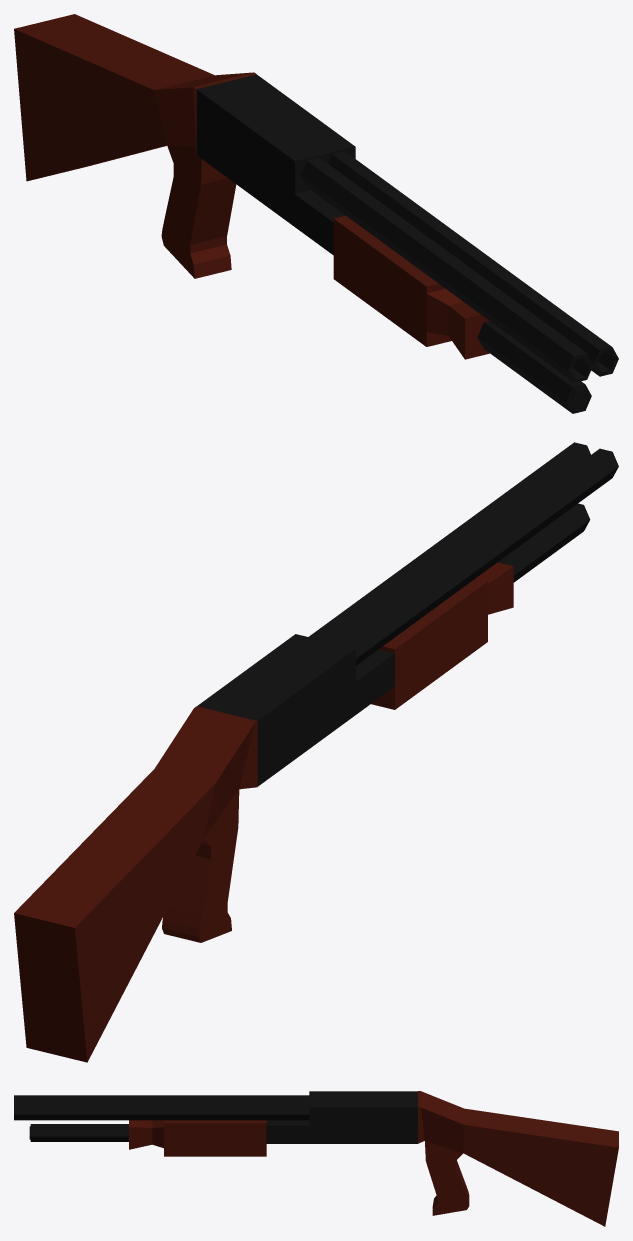
Rendered from Shotgun_Matriz.fbx.
The picture shows the model from 3 angles, top to bottom: view 1: azimuth 30°, elevation 25°; view 2: azimuth 150°, elevation 25°; view 3: azimuth 270°, elevation 25°; orthographic projection. The views are drawn at different scales.
Parts seen in each view (by area): view 1: parte tras, meio, cano 1, puxeta, cano 2, cano baixo; view 2: parte tras, meio, cano 1, puxeta, cano 2, cano baixo; view 3: parte tras, meio, cano 2, puxeta, cano 1, cano baixo.
Part boxes in pixels (<box>): parte tras: <box>14,14,256,278</box>; meio: <box>196,74,355,255</box>; cano 1: <box>300,157,593,382</box>; puxeta: <box>333,215,489,359</box>; cano 2: <box>328,151,618,376</box>; cano baixo: <box>477,321,591,413</box>; parte tras: <box>14,706,257,1062</box>; meio: <box>197,634,394,786</box>; cano 1: <box>334,448,618,665</box>; puxeta: <box>371,562,513,709</box>; cano 2: <box>309,442,590,643</box>; cano baixo: <box>498,503,590,582</box>; parte tras: <box>418,1091,618,1226</box>; meio: <box>266,1091,417,1143</box>; cano 2: <box>14,1102,309,1120</box>; puxeta: <box>129,1120,266,1156</box>; cano 1: <box>14,1095,309,1102</box>; cano baixo: <box>29,1124,128,1141</box>.
Size of the model in its own units: 7.97 by 27.16 by 125.
